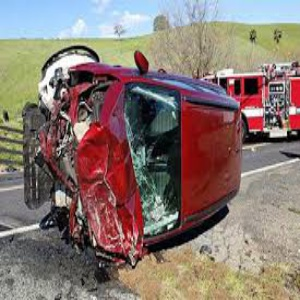bonnet: (84, 127, 131, 264)
front_windshield_glass: (129, 86, 178, 233)
